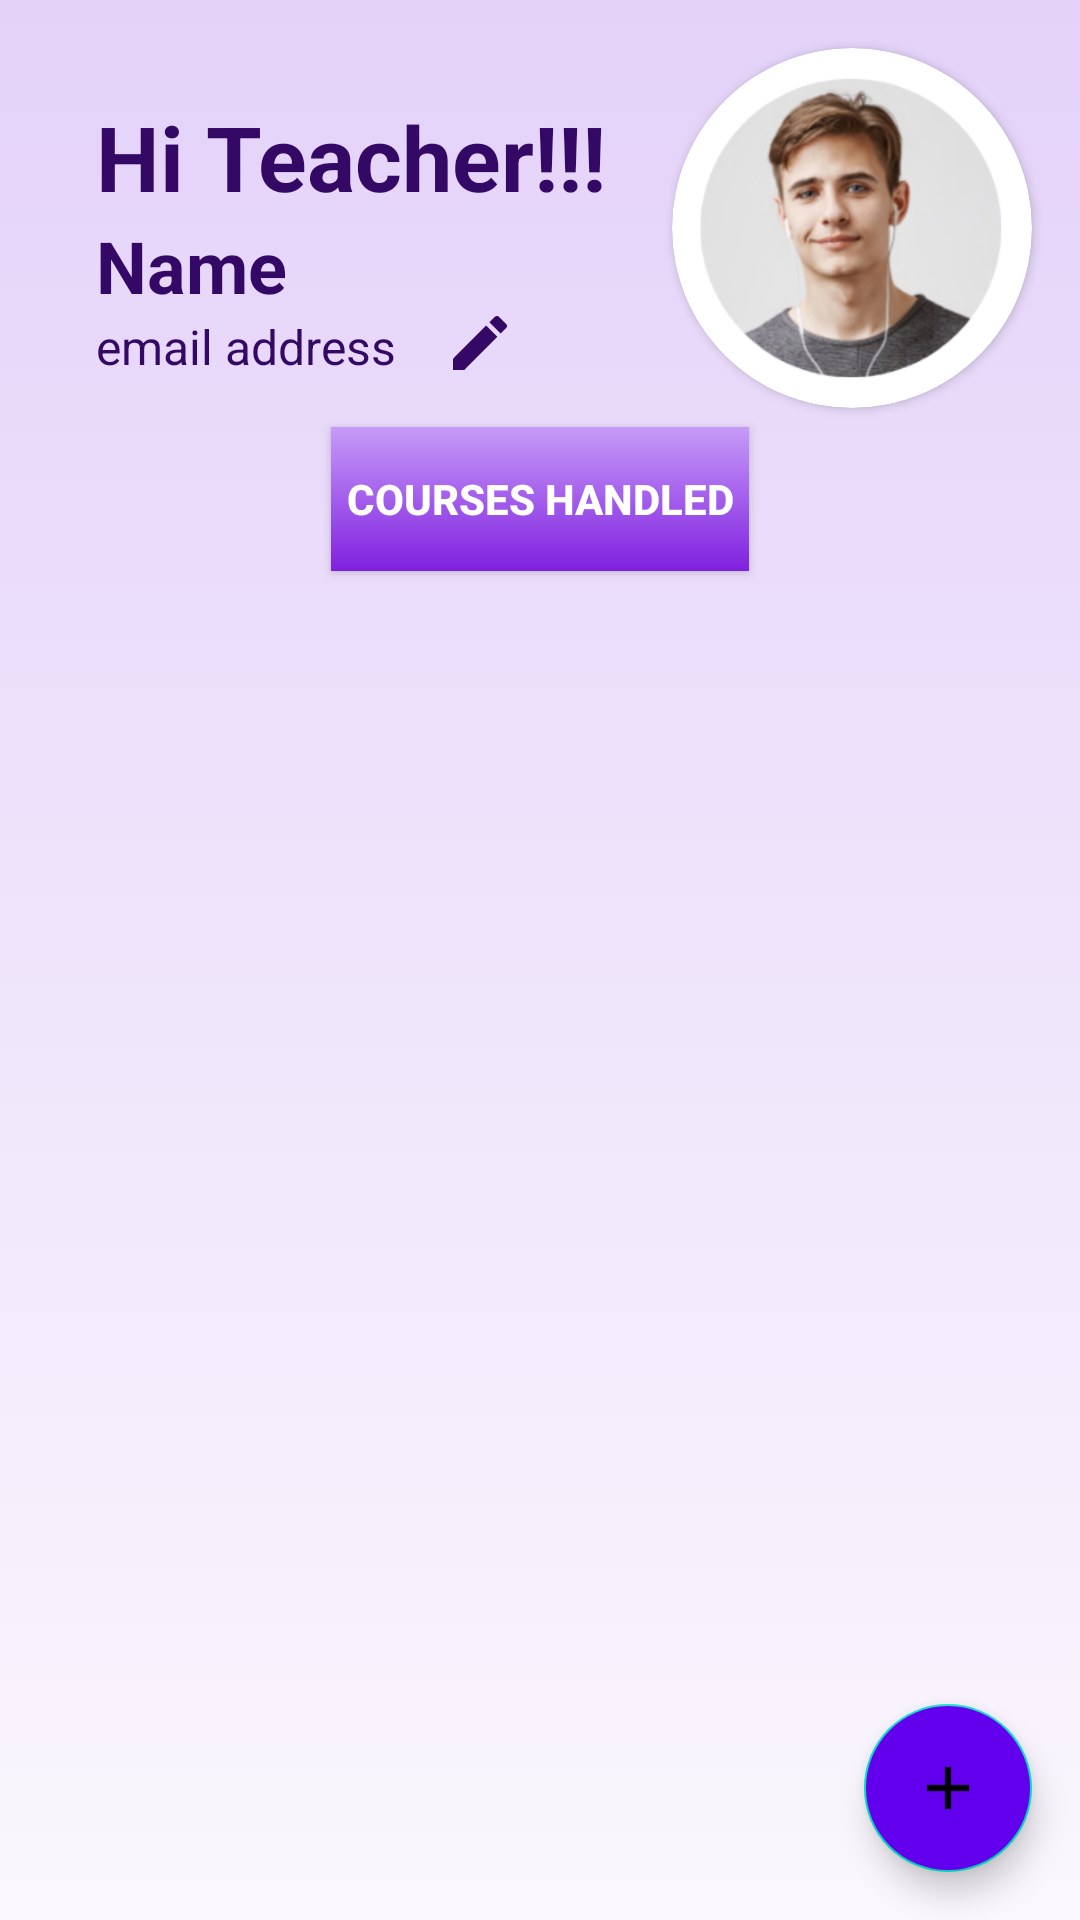

Icon click points for this 1080*1920 phone screenshot, format (x=x, y=y):
add: (x=948, y=1788)
edit: (x=480, y=343)
profile: (x=852, y=228)
